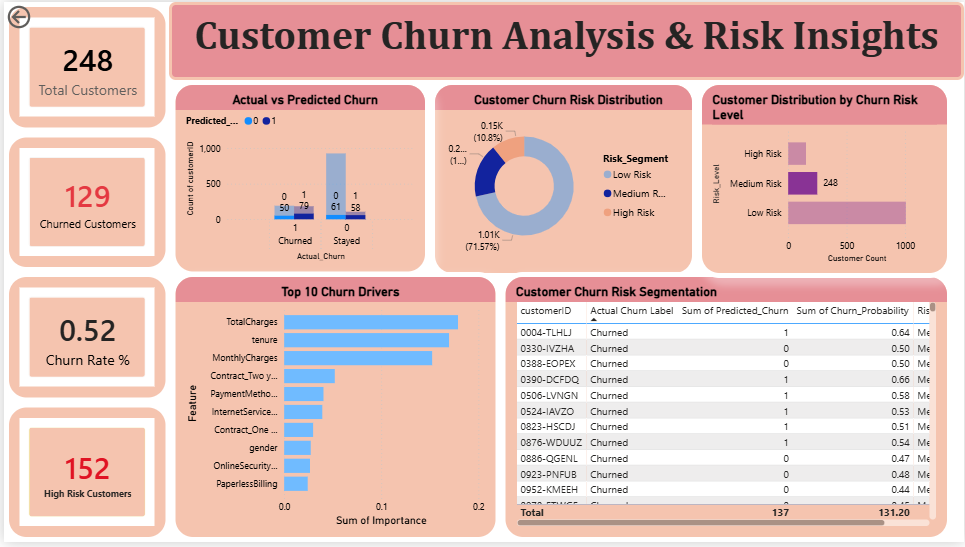

This screenshot's page, from the dashboard's own definition file:
{"tool":"powerbi","page":{"name":"Executive Dashboard","canvas":[1280,720],"ordinal":0},"visuals":[{"type":"cardVisual","fields":{"Data":["churn_predictions.Total Customers"]},"box":[0,0,222,174],"z":0},{"type":"cardVisual","fields":{"Data":["churn_predictions.Churned Customers"]},"box":[0,174,222,186],"z":1000},{"type":"cardVisual","fields":{"Data":["churn_predictions.Churn Rate %"]},"box":[0,360,222,174],"z":2000},{"type":"donutChart","title":"Customer Churn Risk Distribution","fields":{"Category":["churn_predictions.Risk_Segment"],"Y":["CountNonNull(churn_predictions.customerID)"]},"box":[568,104,356,264],"z":3000},{"type":"clusteredColumnChart","title":"Actual vs Predicted Churn","fields":{"Category":["churn_predictions.Actual Churn Label","churn_predictions.Actual_Churn"],"Y":["CountNonNull(churn_predictions.customerID)"],"Series":["churn_predictions.Predicted_Churn"]},"box":[222,104,346,262],"z":4000},{"type":"barChart","title":"Top 10 Churn Drivers","fields":{"Category":["feature_importance.Feature"],"Y":["Sum(feature_importance.Importance)"]},"box":[222,360,440,360],"z":5000},{"type":"tableEx","title":"Customer Churn Risk Segmentation","fields":{"Values":["churn_predictions.customerID","churn_predictions.Actual Churn Label","Sum(churn_predictions.Predicted_Churn)","Sum(churn_predictions.Churn_Probability)","churn_predictions.Risk_Level"]},"box":[662,360,602,360],"z":6000},{"type":"actionButton","box":[0,0,100,40],"z":7000},{"type":"clusteredBarChart","title":"Customer Distribution by Churn Risk Level","fields":{"Category":["churn_predictions.Risk_Level"],"Y":["churn_predictions.Customer Count"]},"box":[924,104,340,264],"z":8000},{"type":"cardVisual","fields":{"Data":["churn_predictions.High Risk Customers"]},"box":[0,534,222,186],"z":9000},{"type":"textbox","box":[220,0,1060,104],"z":10000}]}

Visuals, with their boxes on the page's 1280x720 design canvas (x1, y1, x2, y2). These are canvas units, not pixel positions in the 965x547 screenshot, which may show the page scaled, cropped or inside an application window:
cardVisual - churn_predictions.Total Customers: bbox(0, 0, 222, 174)
cardVisual - churn_predictions.Churned Customers: bbox(0, 174, 222, 360)
cardVisual - churn_predictions.Churn Rate %: bbox(0, 360, 222, 534)
"Customer Churn Risk Distribution" donutChart: bbox(568, 104, 924, 368)
"Actual vs Predicted Churn" clusteredColumnChart: bbox(222, 104, 568, 366)
"Top 10 Churn Drivers" barChart: bbox(222, 360, 662, 720)
"Customer Churn Risk Segmentation" tableEx: bbox(662, 360, 1264, 720)
actionButton: bbox(0, 0, 100, 40)
"Customer Distribution by Churn Risk Level" clusteredBarChart: bbox(924, 104, 1264, 368)
cardVisual - churn_predictions.High Risk Customers: bbox(0, 534, 222, 720)
textbox: bbox(220, 0, 1280, 104)
